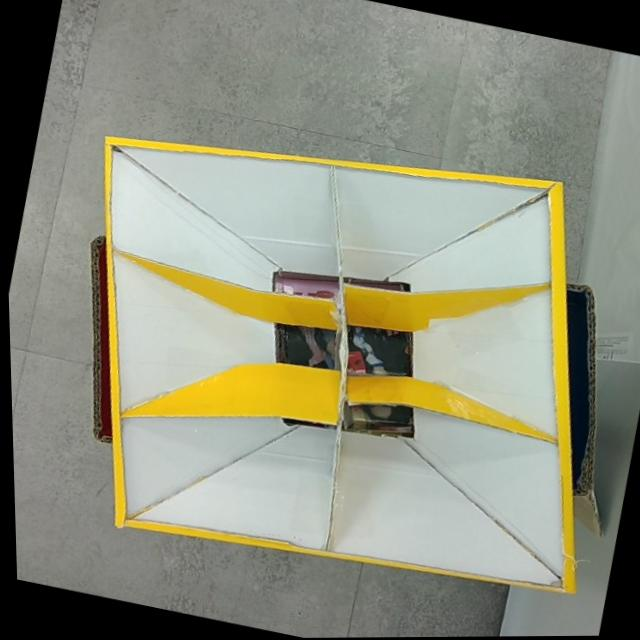box: (21, 85, 640, 625)
